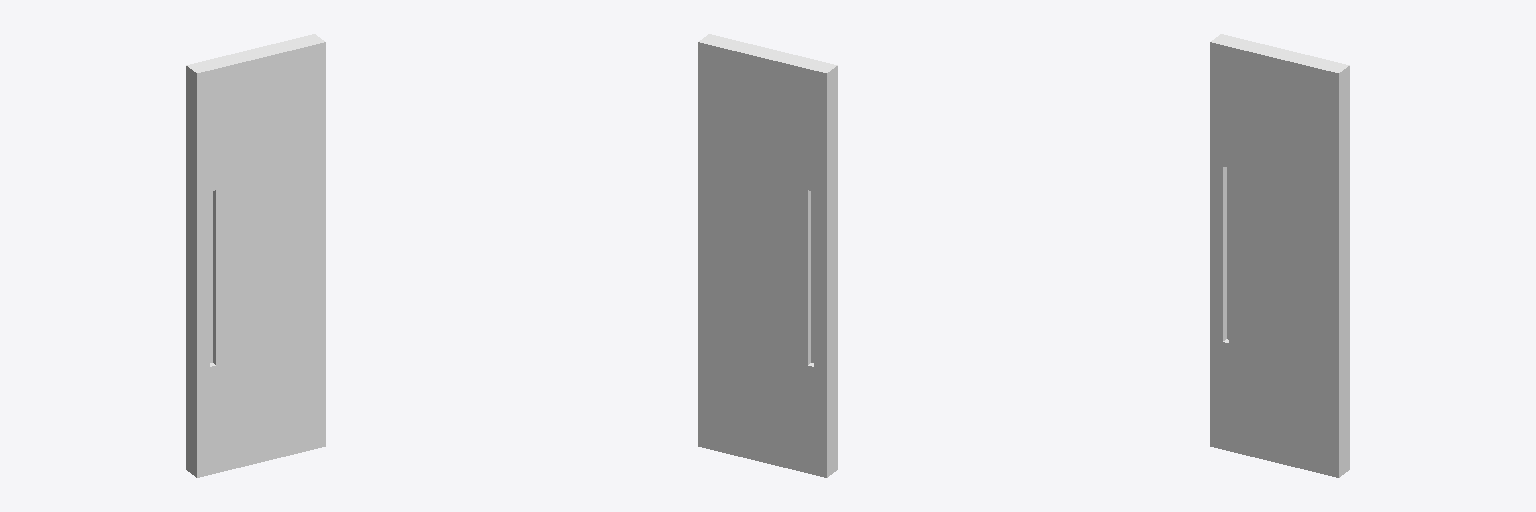
The model's file is door-lab-right.obj.
3 renders of one model, left to right at view 1: azimuth 30°, elevation 25°; view 2: azimuth 150°, elevation 25°; view 3: azimuth 330°, elevation 25°, orthographic.
Parts seen in each view (by area): view 1: object 1; view 2: object 1; view 3: object 1.
Boxes of the visible parts, box(x1,y1,x2,y2) form: object 1: box(186, 34, 325, 477); object 1: box(698, 34, 837, 477); object 1: box(1210, 34, 1349, 477).
Size of the model in its own units: 2 by 6 by 0.3.